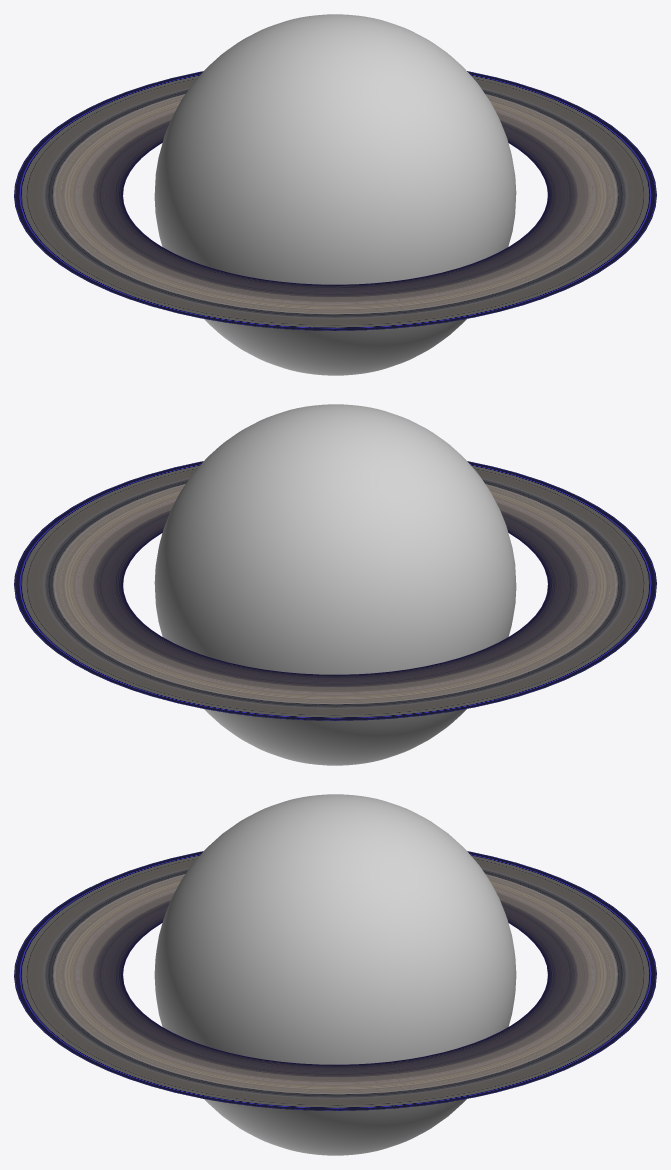
The model's file is Saturn.fbx.
The picture shows the model from 3 angles, top to bottom: view 1: azimuth 30°, elevation 25°; view 2: azimuth 150°, elevation 25°; view 3: azimuth 270°, elevation 25°; orthographic projection.
Parts seen in each view (by area): view 1: Saturn, Saturn Ring; view 2: Saturn, Saturn Ring; view 3: Saturn, Saturn Ring.
Part boxes in pixels (left/top/right/bottom): Saturn: left=154, top=14, right=516, bottom=375; Saturn Ring: left=14, top=71, right=656, bottom=330; Saturn: left=154, top=404, right=516, bottom=765; Saturn Ring: left=14, top=461, right=656, bottom=720; Saturn: left=154, top=794, right=516, bottom=1155; Saturn Ring: left=14, top=851, right=656, bottom=1110.
Size of the model in its own units: 355 by 200 by 355.
